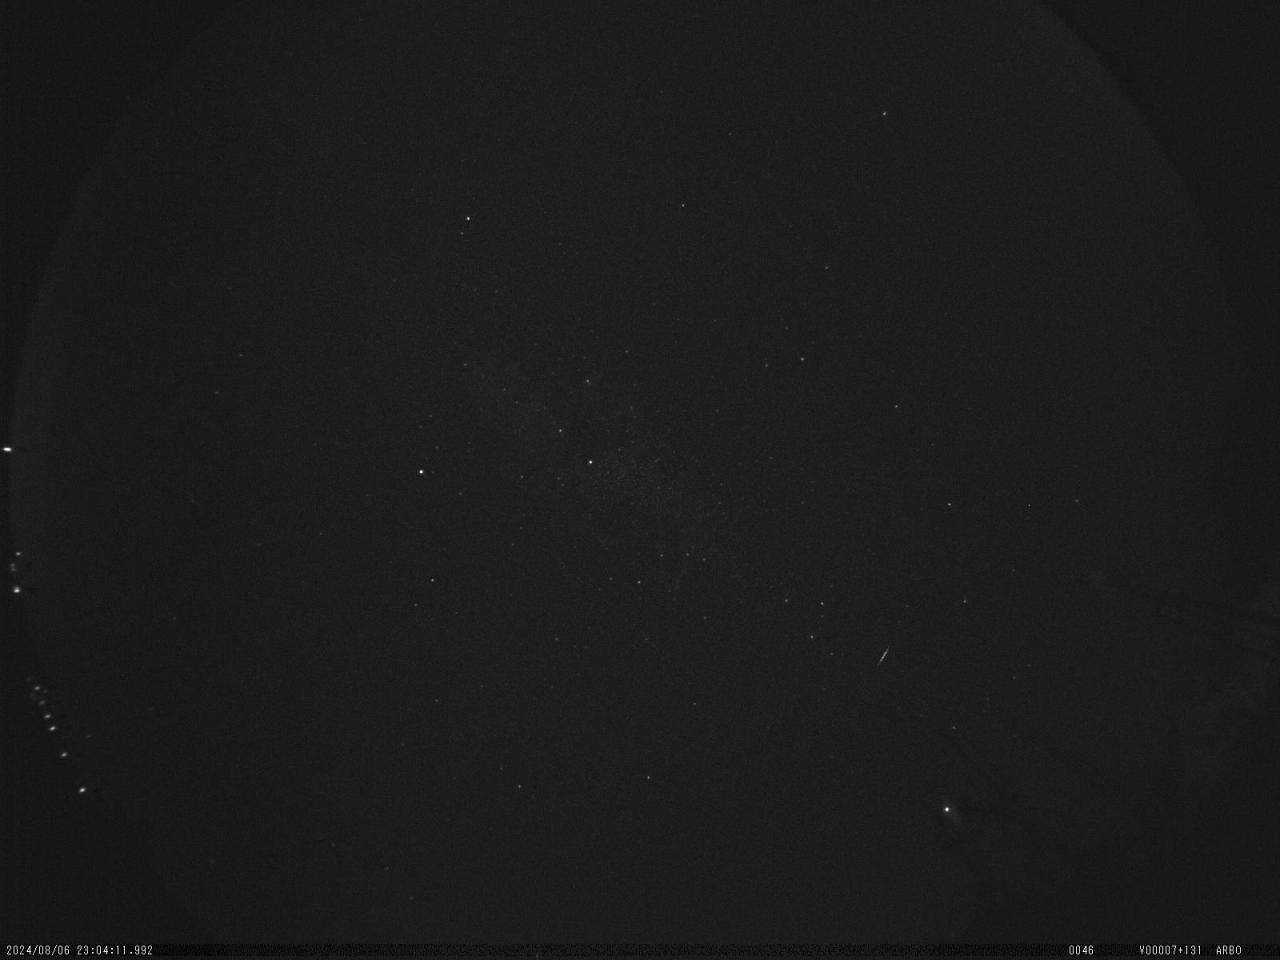Meteor: (871, 639, 897, 675)
